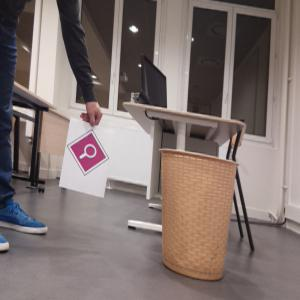search: (67, 130, 111, 173)
